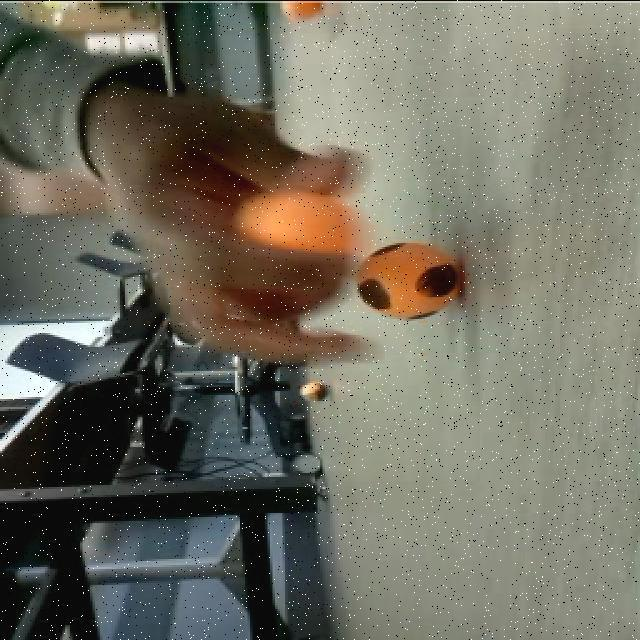ping-pong-ball: (233, 177, 361, 269), (350, 234, 470, 326), (290, 376, 336, 406), (277, 0, 325, 24)
